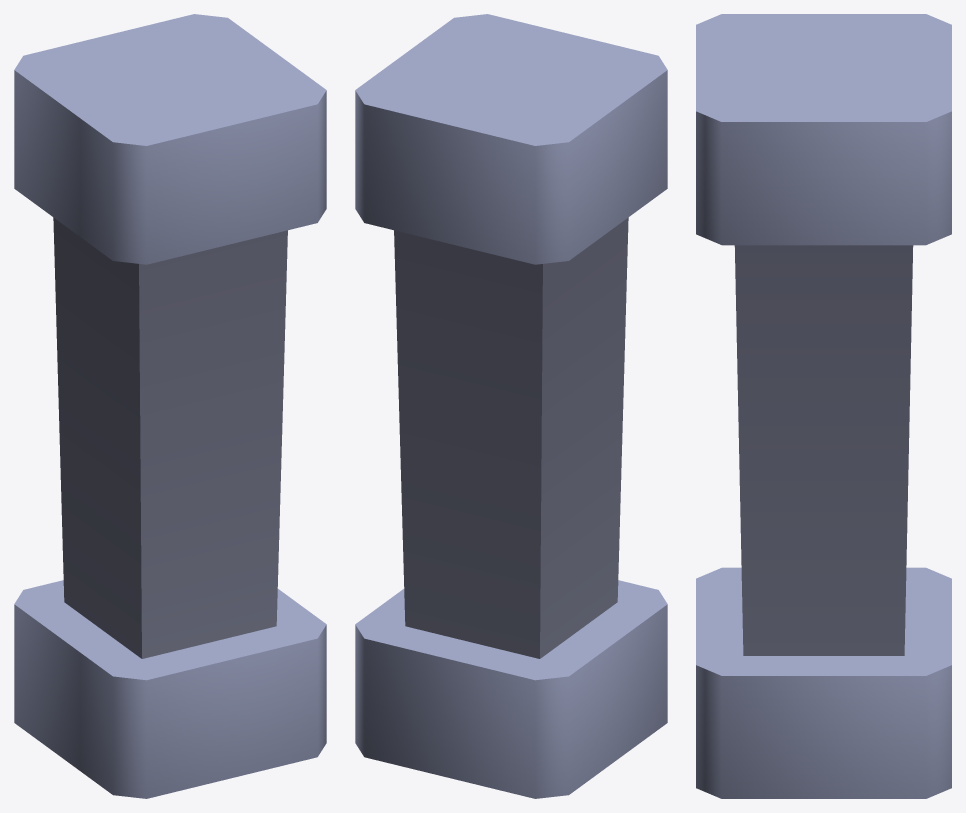
The model's file is column.005_lev5.glb.
3 renders of one model, left to right at view 1: azimuth 30°, elevation 25°; view 2: azimuth 150°, elevation 25°; view 3: azimuth 270°, elevation 25°, orthographic. The views are drawn at different scales.
Parts seen in each view (by area): view 1: column.005_lev5; view 2: column.005_lev5; view 3: column.005_lev5.
Boxes of the visible parts, left/top/right/bottom form: column.005_lev5: left=14, top=14, right=326, bottom=798; column.005_lev5: left=355, top=14, right=667, bottom=798; column.005_lev5: left=696, top=14, right=951, bottom=798.
Bounding box in the file's own units: 4.53 × 13.23 × 4.53.
1 material, 1 textured.
